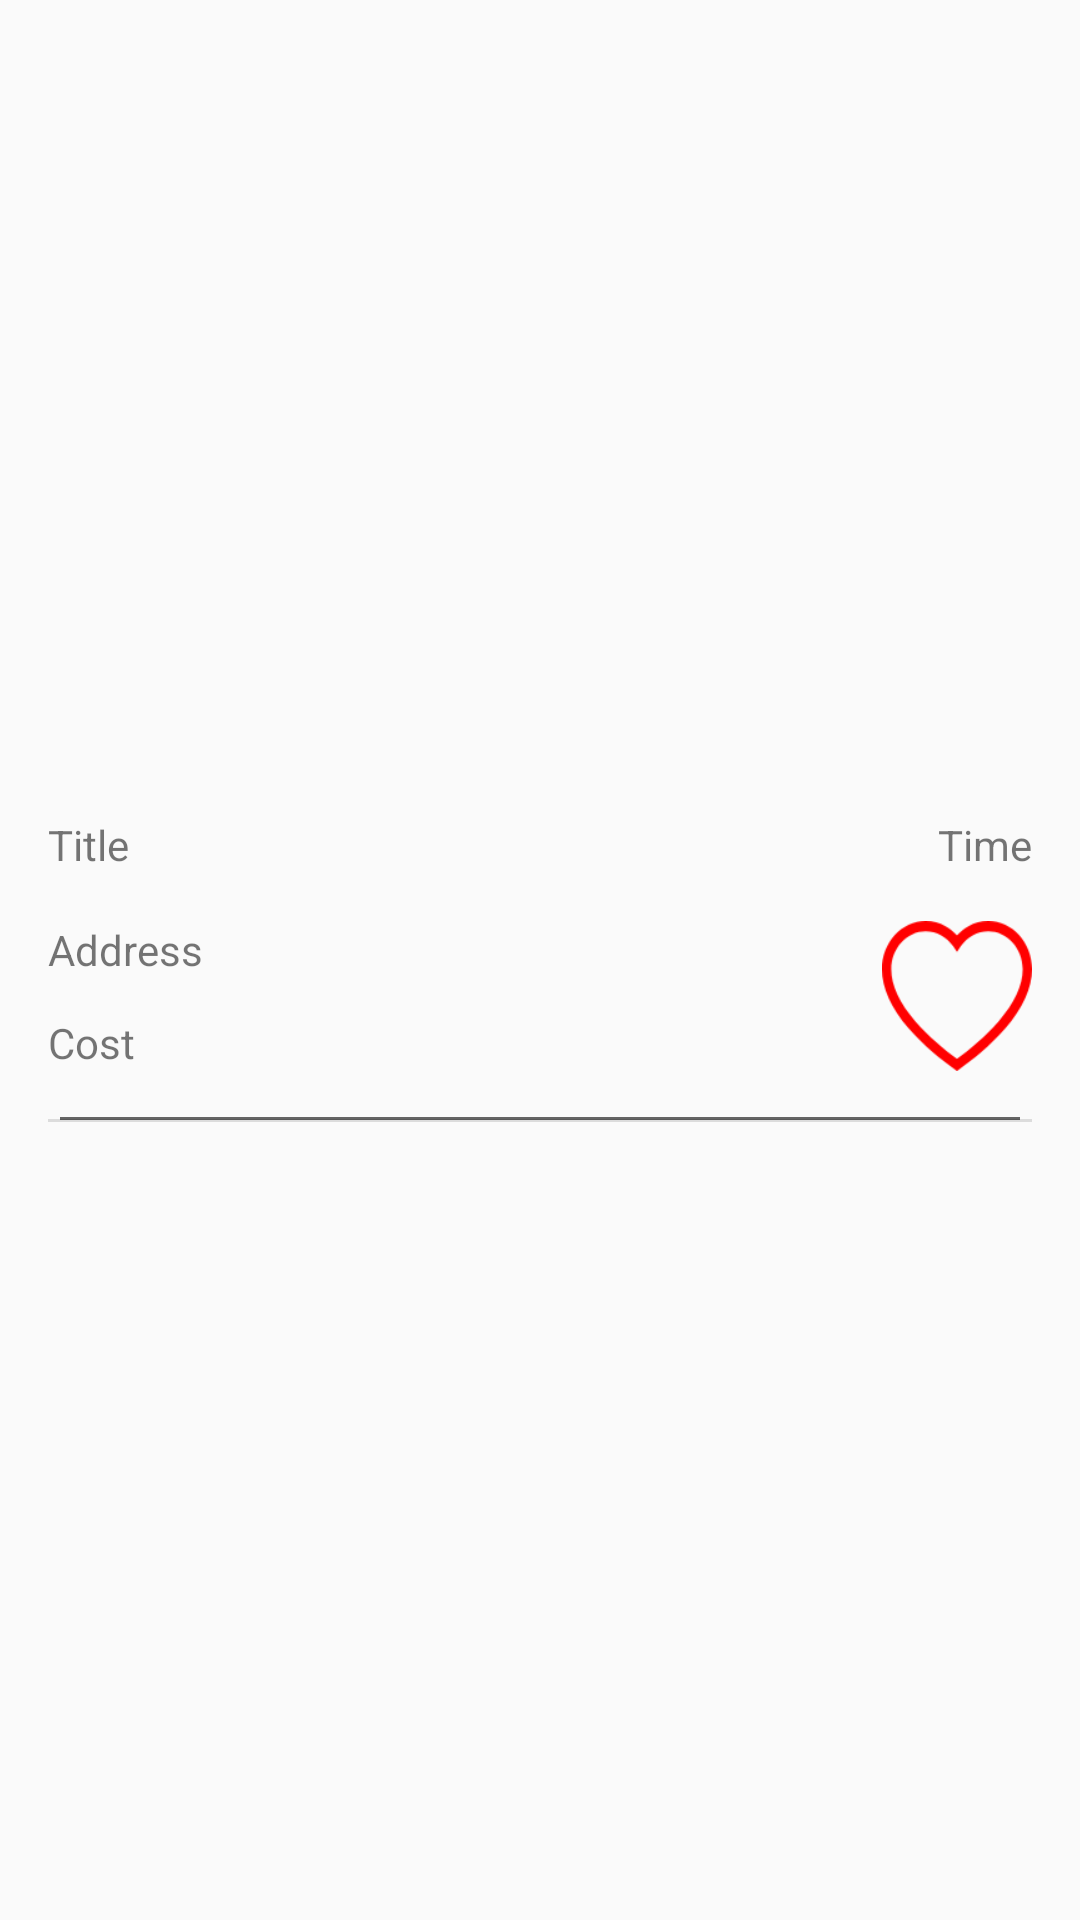

Point at icon controls on the screen. Image size 1080*1920, points as (x=x, y=y).
Favorite: (x=957, y=996)
